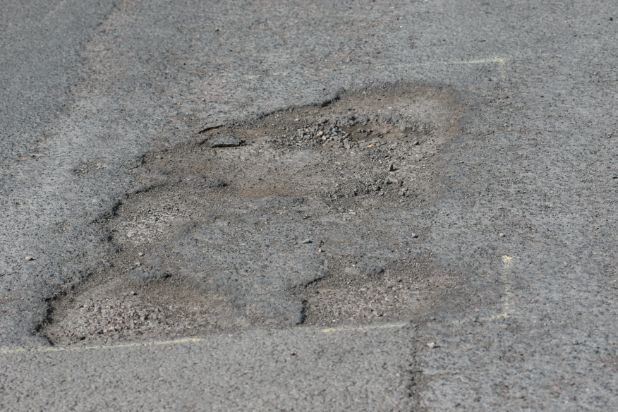pothole: (138, 76, 477, 202), (28, 258, 250, 349), (285, 251, 462, 330), (85, 185, 239, 251)
